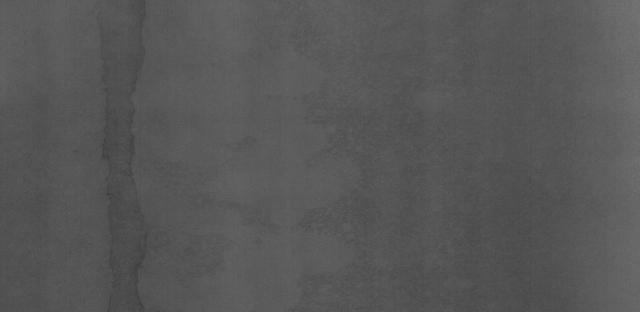water_spot: (82, 13, 186, 312)
